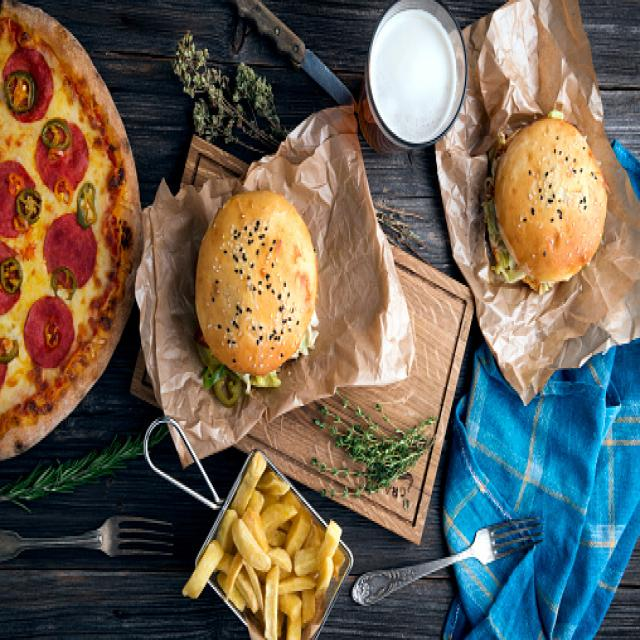burger: (195, 190, 320, 394), (484, 114, 608, 297)
pizza: (0, 0, 144, 457)
